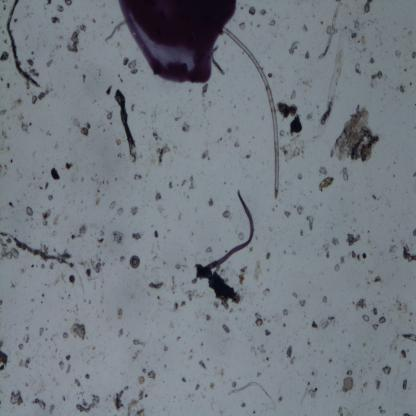Background material: (314, 32, 344, 138), (330, 103, 380, 163), (276, 101, 304, 138), (80, 174, 109, 204), (65, 22, 88, 55), (390, 295, 414, 321), (79, 258, 107, 280), (29, 85, 55, 106), (282, 140, 306, 161), (126, 390, 147, 414), (69, 118, 92, 139), (75, 393, 99, 412), (341, 367, 357, 394), (310, 315, 338, 330), (0, 336, 10, 374), (121, 55, 139, 76), (69, 320, 87, 341), (113, 386, 129, 409), (400, 242, 416, 264), (154, 143, 168, 168), (97, 223, 107, 255), (40, 206, 55, 227), (58, 354, 72, 376), (391, 327, 403, 352), (348, 20, 362, 41), (16, 332, 32, 350), (345, 229, 361, 247), (138, 370, 158, 384), (8, 390, 25, 406), (211, 296, 229, 311), (8, 96, 24, 112), (32, 396, 47, 413), (286, 39, 300, 57), (112, 228, 125, 247), (252, 260, 263, 282), (185, 171, 197, 191), (73, 223, 89, 238), (318, 177, 335, 191), (350, 249, 368, 262), (304, 214, 316, 233), (2, 128, 11, 153), (238, 264, 248, 286), (170, 273, 180, 294), (360, 375, 371, 394), (252, 310, 263, 329), (252, 343, 268, 356), (50, 165, 62, 182), (18, 357, 32, 371), (354, 297, 368, 311), (372, 316, 387, 329), (131, 346, 144, 361), (368, 71, 384, 83), (388, 240, 398, 258), (401, 332, 416, 344), (285, 344, 294, 363), (340, 166, 350, 183), (0, 156, 8, 177), (352, 61, 364, 75), (173, 299, 187, 311), (112, 306, 124, 320), (128, 203, 140, 217), (334, 256, 345, 271), (148, 281, 164, 291), (220, 208, 232, 221), (62, 158, 74, 171), (232, 291, 243, 305), (359, 35, 368, 52), (200, 150, 212, 162), (214, 366, 225, 379), (24, 205, 34, 219), (186, 288, 196, 302), (67, 272, 77, 286), (44, 56, 53, 71), (172, 259, 183, 271), (180, 121, 191, 133), (130, 231, 142, 242), (102, 84, 113, 96), (0, 50, 10, 63), (222, 322, 232, 335), (374, 377, 382, 393), (392, 85, 406, 94), (132, 338, 146, 347), (363, 0, 372, 14), (154, 190, 163, 204), (377, 404, 388, 415), (46, 402, 56, 414), (188, 346, 196, 361), (381, 364, 393, 374), (393, 47, 403, 59), (201, 82, 209, 96), (240, 18, 247, 34), (323, 242, 330, 258), (116, 206, 126, 217), (184, 392, 195, 402), (288, 90, 298, 101), (206, 197, 216, 208), (49, 14, 60, 24), (20, 122, 29, 134), (25, 56, 34, 68), (361, 311, 370, 323), (310, 384, 318, 397), (401, 378, 409, 391), (151, 132, 161, 142), (266, 18, 276, 28), (192, 381, 202, 391), (133, 171, 143, 181), (236, 230, 245, 241), (29, 67, 40, 76), (36, 326, 45, 337), (318, 166, 329, 175), (110, 197, 117, 211), (371, 304, 378, 318), (300, 22, 308, 34), (264, 327, 272, 339), (55, 4, 67, 12), (295, 204, 303, 216), (338, 404, 346, 416), (332, 236, 340, 248), (262, 287, 270, 299), (373, 274, 382, 284), (198, 361, 208, 370), (281, 307, 290, 317), (232, 141, 242, 150), (400, 349, 408, 360), (168, 176, 175, 188), (207, 380, 214, 392), (224, 125, 233, 134), (259, 7, 267, 17), (72, 60, 80, 70), (298, 298, 306, 308), (152, 229, 160, 239), (198, 340, 206, 350), (118, 254, 126, 264), (264, 251, 272, 261), (303, 50, 311, 60), (364, 267, 374, 275), (1, 0, 7, 13), (297, 173, 306, 181), (60, 332, 69, 340), (74, 378, 82, 387), (7, 199, 16, 207), (240, 401, 249, 409), (172, 113, 181, 121), (372, 193, 380, 202), (248, 6, 256, 15), (0, 107, 7, 117), (117, 328, 124, 338), (39, 182, 49, 189), (46, 192, 54, 200), (116, 74, 123, 83), (181, 178, 188, 187), (115, 138, 122, 147), (106, 110, 112, 120), (63, 0, 73, 6), (245, 151, 251, 161), (283, 211, 291, 218), (277, 395, 284, 403), (323, 293, 328, 304), (91, 15, 97, 24), (281, 247, 287, 256), (180, 375, 186, 384), (206, 245, 212, 254), (254, 372, 262, 378), (81, 74, 87, 82), (62, 392, 67, 401), (412, 227, 416, 238), (46, 0, 53, 6), (267, 72, 274, 78), (309, 369, 315, 376), (117, 154, 123, 161), (368, 57, 374, 64), (206, 316, 212, 323), (85, 299, 92, 305), (281, 321, 287, 328), (2, 38, 8, 45), (46, 130, 52, 137), (402, 412, 412, 416), (411, 50, 416, 58), (328, 358, 334, 364), (57, 44, 63, 50), (0, 297, 4, 306), (292, 291, 298, 297), (176, 336, 183, 341), (5, 80, 9, 88), (162, 260, 167, 266), (360, 342, 366, 347), (299, 229, 303, 236), (410, 78, 413, 87), (365, 228, 370, 233), (408, 360, 413, 365), (0, 77, 5, 82), (165, 346, 169, 352), (86, 374, 90, 380), (294, 251, 298, 257), (266, 357, 270, 363), (412, 172, 416, 178), (252, 409, 256, 414), (10, 158, 13, 164), (348, 342, 350, 350), (308, 342, 311, 347), (164, 364, 167, 369), (163, 336, 167, 339), (14, 20, 18, 23), (404, 68, 406, 73), (42, 294, 44, 298), (208, 358, 209, 361)
Cellulose filter fibre: (220, 28, 279, 199), (3, 232, 84, 289), (6, 0, 39, 87), (114, 89, 138, 164), (318, 0, 343, 58), (225, 379, 272, 400), (105, 19, 126, 43), (210, 46, 226, 76)
Cotton: (206, 188, 256, 269)
Diatom: (129, 254, 141, 269)
Fragment: (197, 266, 235, 298)
Pen: (114, 1, 240, 92)
